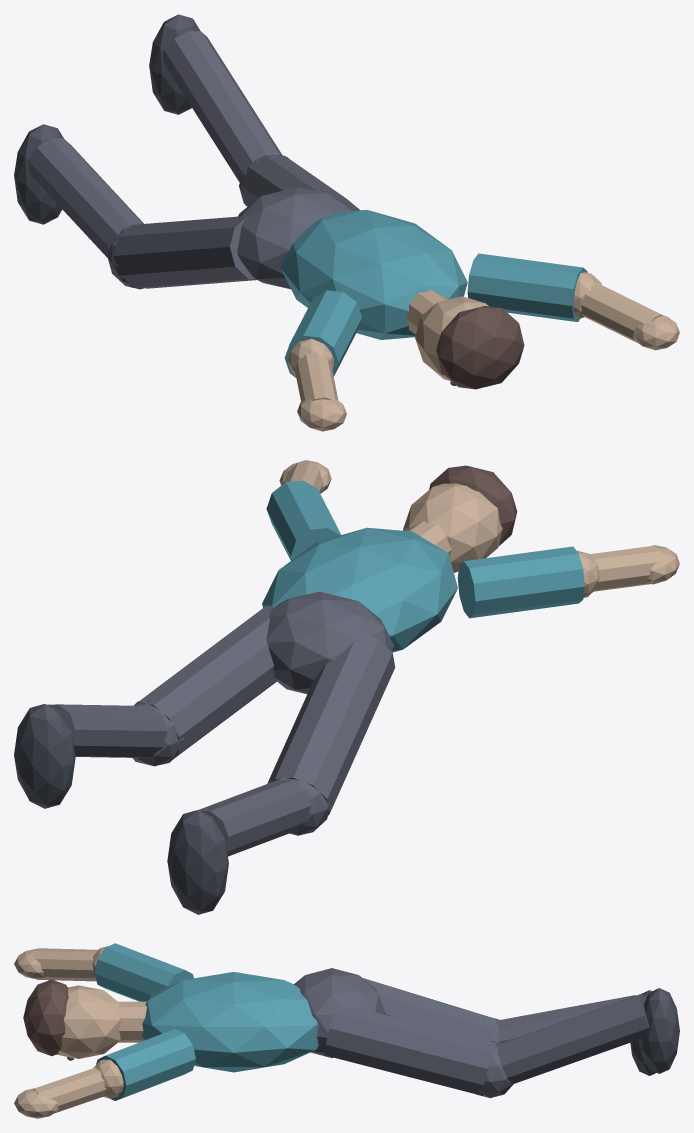
3 views of the same model, one above another, from view 1: azimuth 30°, elevation 25°; view 2: azimuth 150°, elevation 25°; view 3: azimuth 270°, elevation 25° (orthographic). The views are drawn at different scales.
Parts seen in each view (by area): view 1: world; view 2: world; view 3: world.
Boxes of the visible parts, bbox=[...] form: world: bbox=[14, 14, 679, 431]; world: bbox=[14, 460, 679, 914]; world: bbox=[14, 943, 679, 1118].
Size of the model in its own units: 1.17 by 0.5125 by 2.1.
